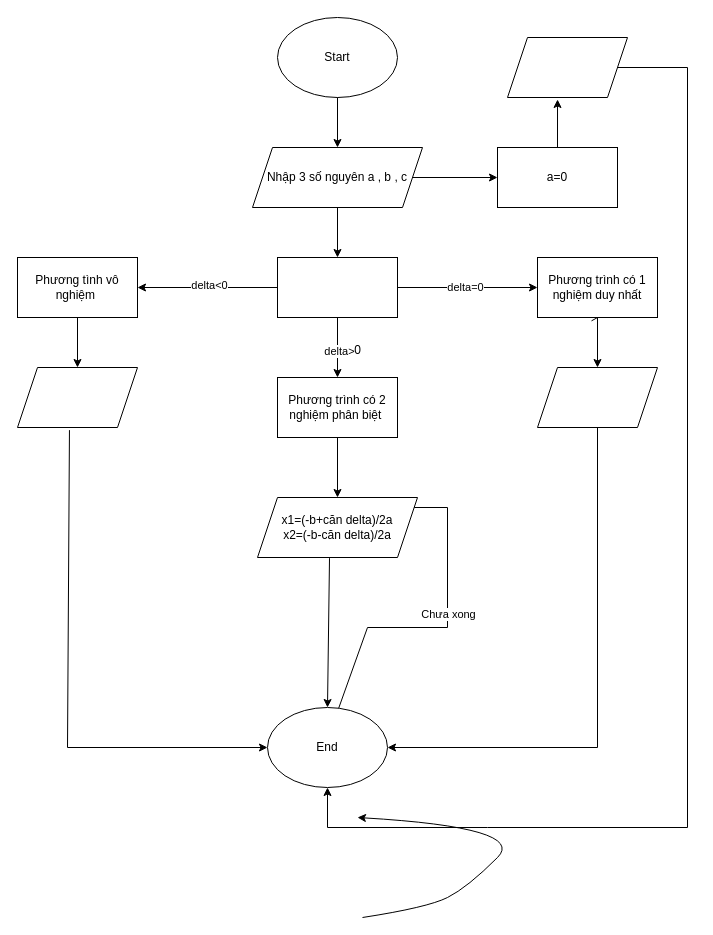
Some shapes in this 713 by 935 pixel diagram are drawn without their labels. Here are the shapes that lost their labels. From the top down, the centre of each, then its label:
the point at 567,67: x=-c/b
the point at 337,287: Tính delta của phương trình
the point at 77,397: Không có nghiệm thỏa mãn
the point at 597,397: Nghiện của phương trình là -b/2a
